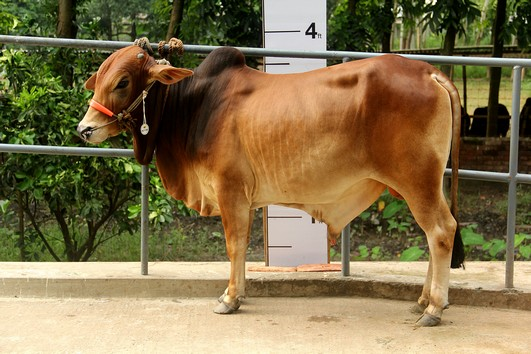cow: (71, 36, 465, 341)
